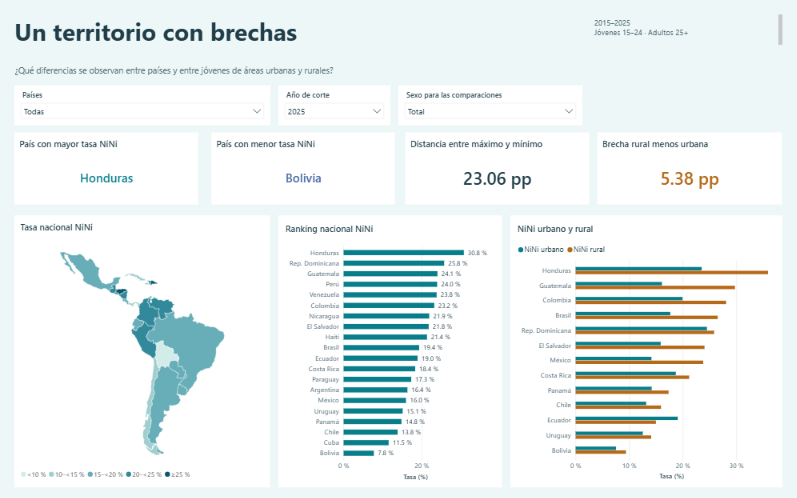

This screenshot's page, from the dashboard's own definition file:
{"tool":"powerbi","page":{"name":"03 Territorio","canvas":[1600,1000],"ordinal":2},"visuals":[{"type":"textbox","box":[32,32,1536,62],"z":5000},{"type":"textbox","box":[32,132,1536,29],"z":6000},{"type":"slicer","fields":{"Values":["Paises.País"]},"box":[32,174,512,80],"z":7000},{"type":"slicer","fields":{"Values":["Corte.Año"]},"box":[560,174,224,80],"z":8000},{"type":"slicer","fields":{"Values":["Sexo selector.Etiqueta"]},"box":[800,174,368,80],"z":9000},{"type":"textbox","box":[1192,38,376,55],"z":10000},{"type":"card","title":"País con mayor tasa NiNi","fields":{"Values":["Observaciones.País mayor NiNi"]},"box":[32.5,268.8,367.5,143.8],"z":12000},{"type":"card","title":"País con menor tasa NiNi","fields":{"Values":["Observaciones.País menor NiNi"]},"box":[425,268.8,367.5,143.8],"z":13000},{"type":"card","title":"Distancia entre máximo y mínimo","fields":{"Values":["Observaciones.Rango territorial NiNi"]},"box":[813.8,268.8,367.5,143.8],"z":14000},{"type":"card","title":"Brecha rural menos urbana","fields":{"Values":["Observaciones.Brecha rural urbana"]},"box":[1198.8,268.8,368.8,143.8],"z":15000},{"type":"shapeMap","title":"Tasa nacional NiNi ","fields":{"Category":["Paises.ISO3"],"Series":["Mapa NiNi.Tramo NiNi"]},"box":[32.5,433.8,511.2,543.8],"z":16000},{"type":"clusteredBarChart","title":"Ranking nacional NiNi","fields":{"Category":["Paises.País"],"Y":["Observaciones.NiNi nacional"]},"box":[560,433.8,447.5,543.8],"z":17000},{"type":"clusteredBarChart","title":"NiNi urbano y rural","fields":{"Category":["Paises.País"],"Y":["Observaciones.NiNi urbano","Observaciones.NiNi rural"]},"box":[1023.8,433.8,543.8,543.8],"z":18000}]}

Visuals, with their boxes in screenshot pixels (x1, y1, x2, y2), scaled from the page's 1600x1000 canvas onto the 797x498 screenshot:
textbox: bbox=[16, 16, 781, 47]
textbox: bbox=[16, 66, 781, 80]
slicer - Paises.País: bbox=[16, 87, 271, 126]
slicer - Corte.Año: bbox=[279, 87, 391, 126]
slicer - Sexo selector.Etiqueta: bbox=[398, 87, 582, 126]
textbox: bbox=[594, 19, 781, 46]
"País con mayor tasa NiNi" card: bbox=[16, 134, 199, 205]
"País con menor tasa NiNi" card: bbox=[212, 134, 395, 205]
"Distancia entre máximo y mínimo" card: bbox=[405, 134, 588, 205]
"Brecha rural menos urbana" card: bbox=[597, 134, 781, 205]
"Tasa nacional NiNi " shapeMap: bbox=[16, 216, 271, 487]
"Ranking nacional NiNi" clusteredBarChart: bbox=[279, 216, 502, 487]
"NiNi urbano y rural" clusteredBarChart: bbox=[510, 216, 781, 487]
